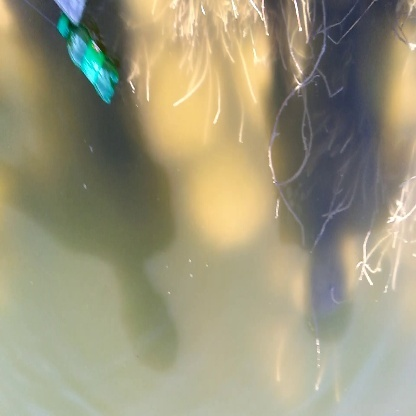bottle: (59, 17, 123, 108)
